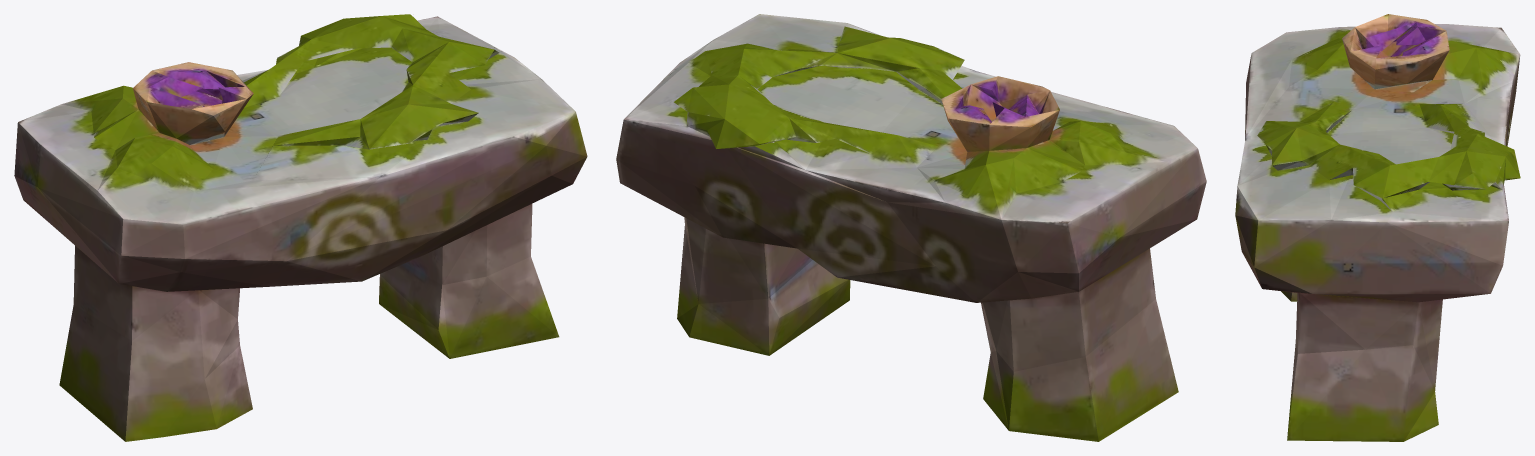
File: druid-altar.glb
3 views of the same model, side by side, from view 1: azimuth 30°, elevation 25°; view 2: azimuth 150°, elevation 25°; view 3: azimuth 270°, elevation 25° (orthographic). The views are drawn at different scales.
Parts seen in each view (by area): view 1: druid-altar; view 2: druid-altar; view 3: druid-altar.
Part boxes in pixels (left/top/right/bottom): druid-altar: left=14, top=14, right=587, bottom=441; druid-altar: left=616, top=14, right=1206, bottom=441; druid-altar: left=1235, top=14, right=1520, bottom=441.
Size of the model in its own units: 2.2 by 1.36 by 1.28.
Materials: 1 (1 with a texture image).
